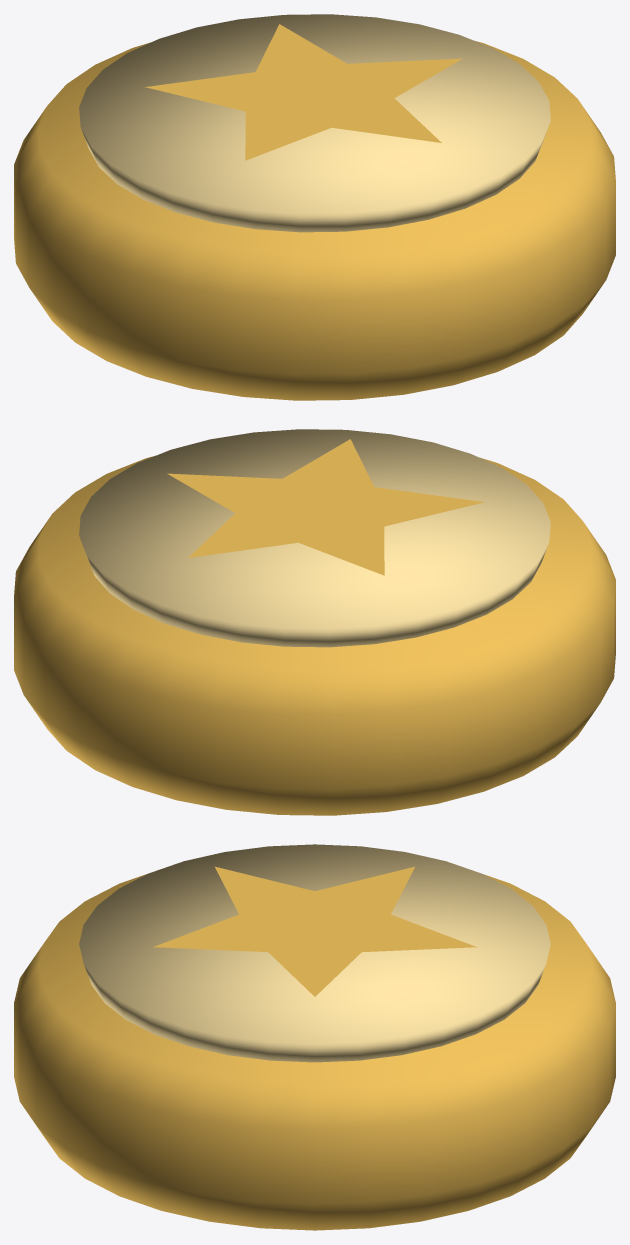
Rendered from coin.glb.
3 views of the same model, one above another, from view 1: azimuth 30°, elevation 25°; view 2: azimuth 150°, elevation 25°; view 3: azimuth 270°, elevation 25° (orthographic).
Parts seen in each view (by area): view 1: coin_crafted_mesh; view 2: coin_crafted_mesh; view 3: coin_crafted_mesh.
Part boxes in pixels (bbox=[...]): coin_crafted_mesh: bbox=[14, 14, 615, 400]; coin_crafted_mesh: bbox=[14, 429, 615, 815]; coin_crafted_mesh: bbox=[14, 844, 615, 1230].
Bounding box in the file's own units: 0.37 × 0.128 × 0.37.
